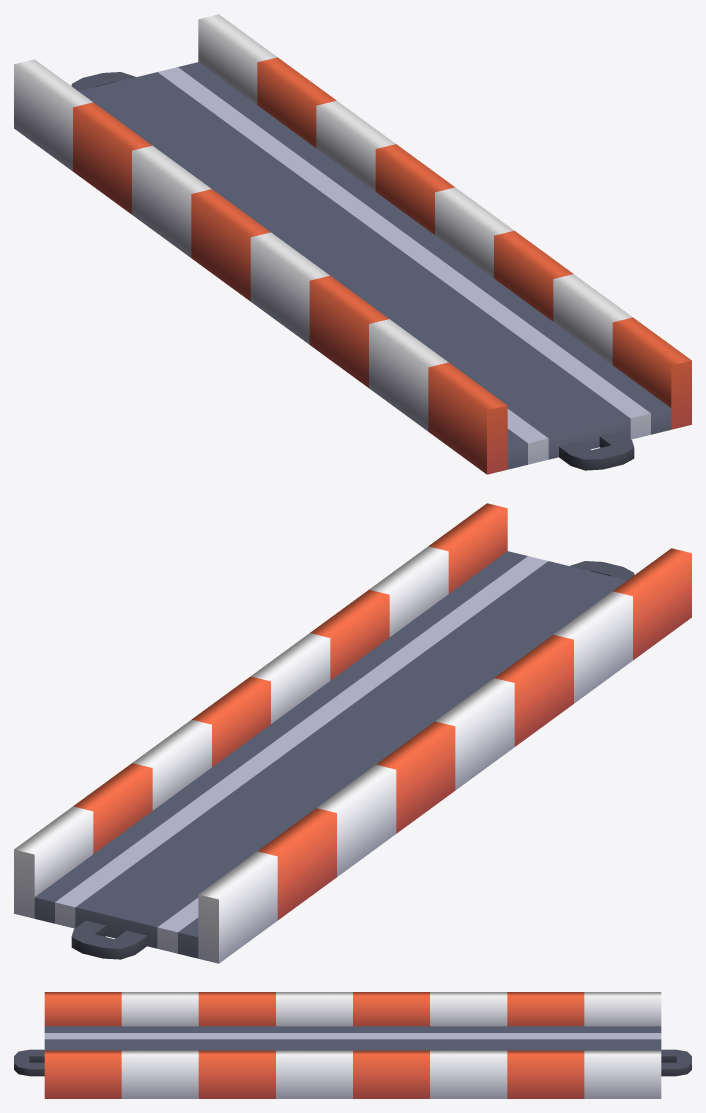
The model's file is kenney-toy-car-track-road-narrow-straight.glb.
The picture shows the model from 3 angles, top to bottom: view 1: azimuth 30°, elevation 25°; view 2: azimuth 150°, elevation 25°; view 3: azimuth 270°, elevation 25°; orthographic projection. The views are drawn at different scales.
Parts seen in each view (by area): view 1: track-road-narrow-straight; view 2: track-road-narrow-straight; view 3: track-road-narrow-straight.
Boxes of the visible parts, x1=… form: track-road-narrow-straight: x1=14, y1=14, x2=691, y2=474; track-road-narrow-straight: x1=14, y1=503, x2=691, y2=963; track-road-narrow-straight: x1=14, y1=992, x2=691, y2=1098.
Size of the model in its own units: 1 by 0.2997 by 4.4.
Materials: 1 (1 with a texture image).
